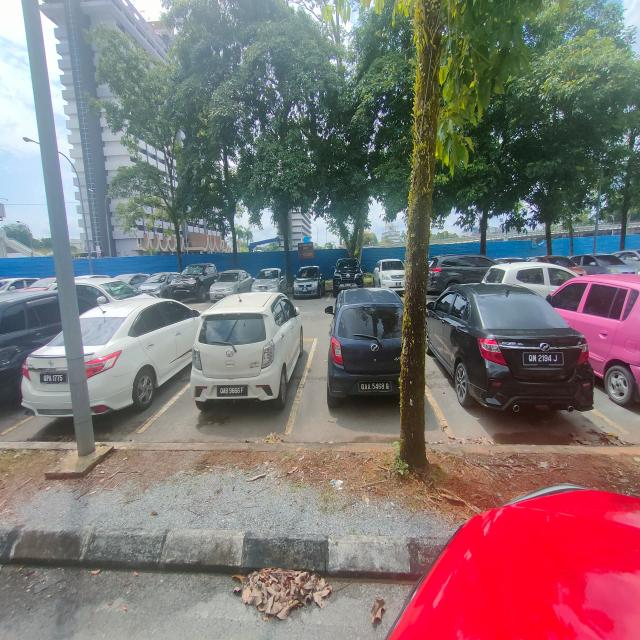PeroduaAxia: (205, 300, 301, 405), (338, 289, 409, 417)
PeroduaBezza: (431, 279, 588, 421)
ToyotaVios: (26, 286, 187, 423)
